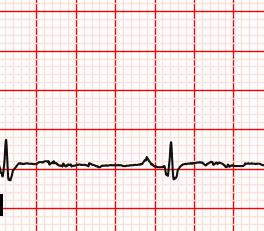Poor R Progression: (161, 137, 183, 175)
